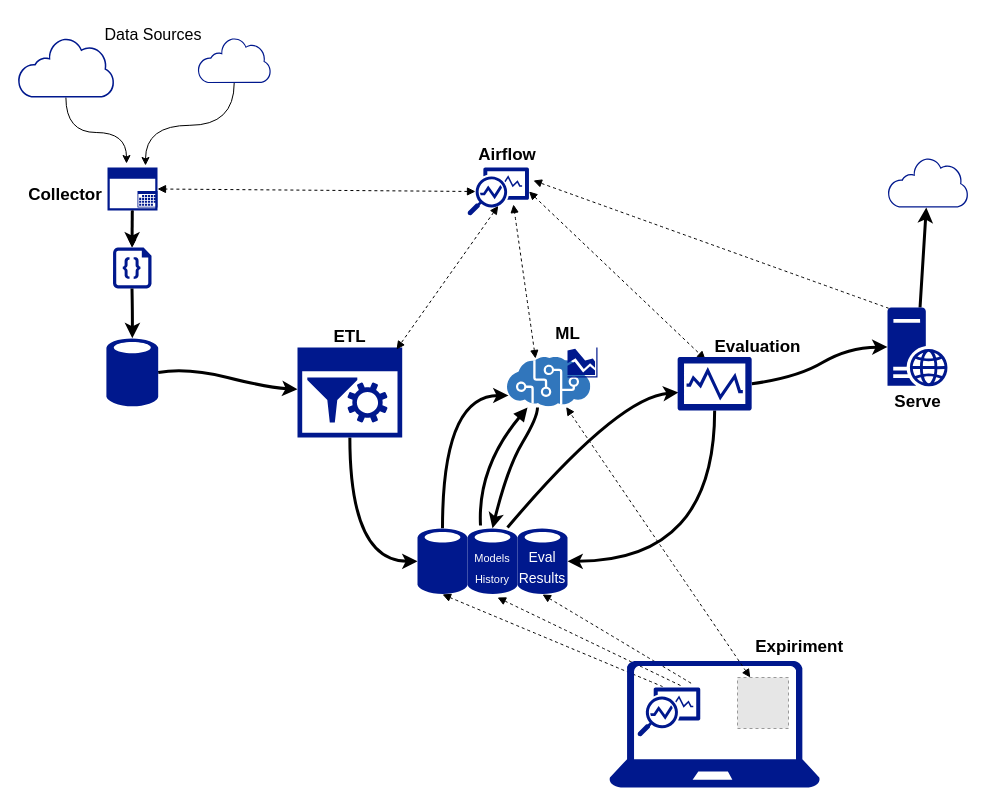
Image size: 985x804. Some labels were removed from this diagram. Grey dashed boxes stand in for pictures. Here are the shapes that lost their labels. From the top down, the centre of each, then its label:
the point at 132,372: Raw Data
the point at 442,561: Clean Data
